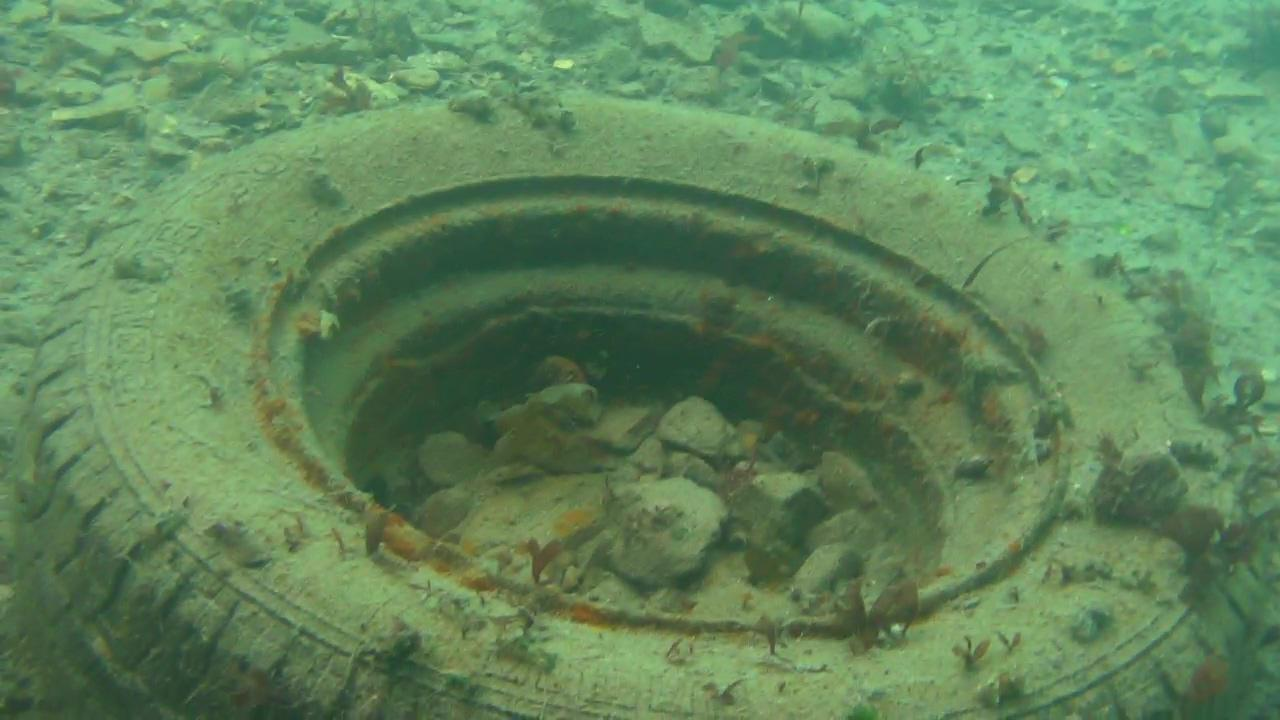tire: (11, 95, 1280, 720)
